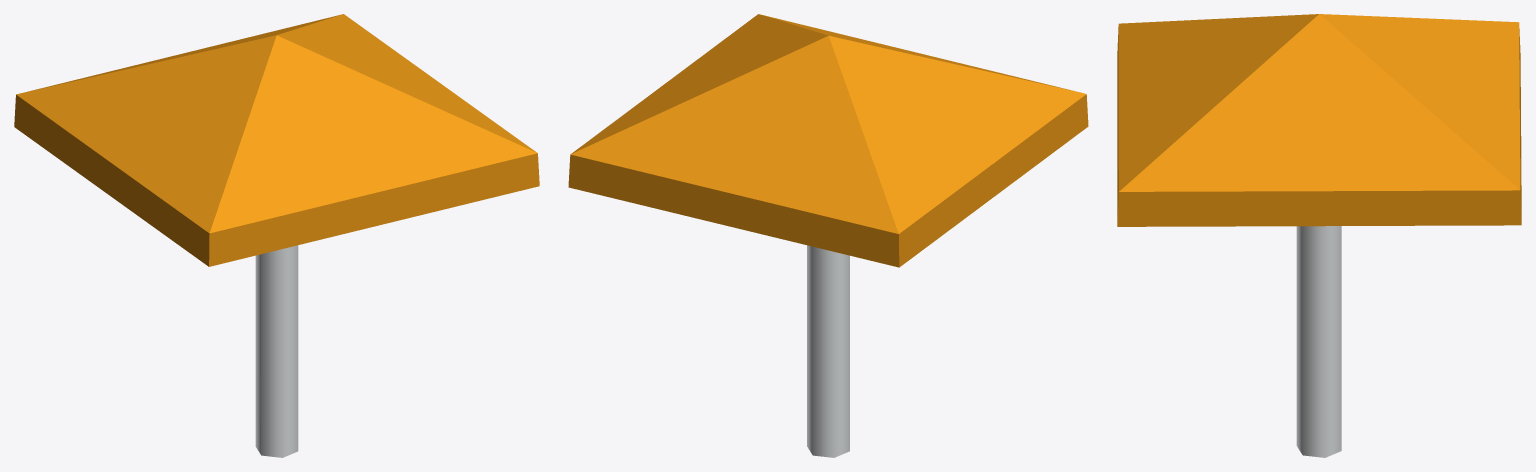
The model's file is umbrella02_s02.FBX.
3 views of the same model, side by side, from view 1: azimuth 30°, elevation 25°; view 2: azimuth 150°, elevation 25°; view 3: azimuth 270°, elevation 25° (orthographic). The views are drawn at different scales.
Parts seen in each view (by area): view 1: umbrella02_s02; view 2: umbrella02_s02; view 3: umbrella02_s02.
Part boxes in pixels (x1,y1,x2,y2): umbrella02_s02: [14, 14, 539, 457]; umbrella02_s02: [568, 14, 1088, 457]; umbrella02_s02: [1117, 14, 1521, 457].
Bounding box in the file's own units: 207 × 207 × 245.
1 material, 1 textured.
